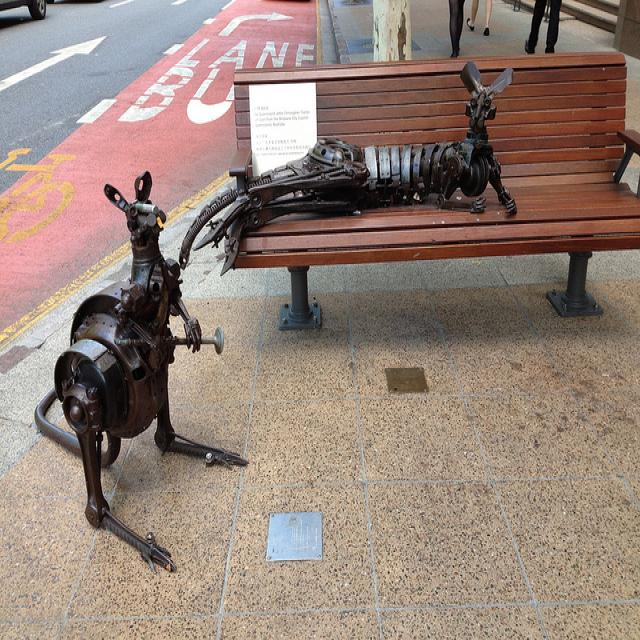Vehicle: (0, 0, 50, 22)
